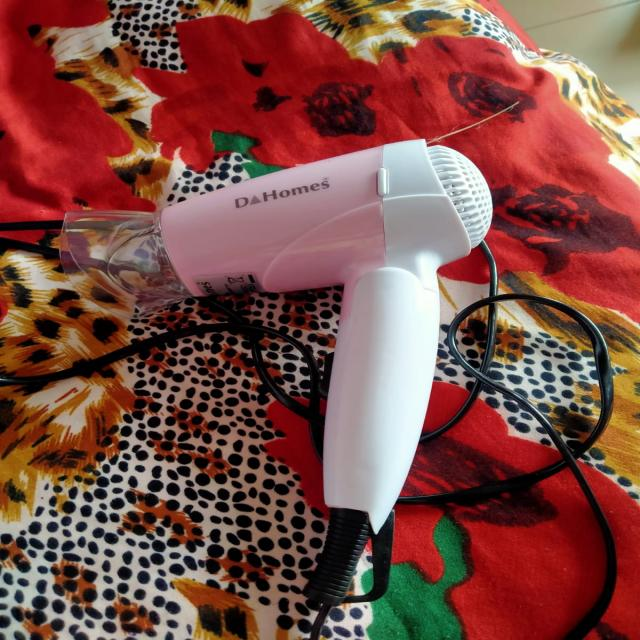hair Dryer: (66, 136, 597, 604)
